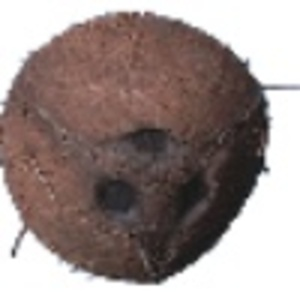coco: (1, 11, 300, 282)
